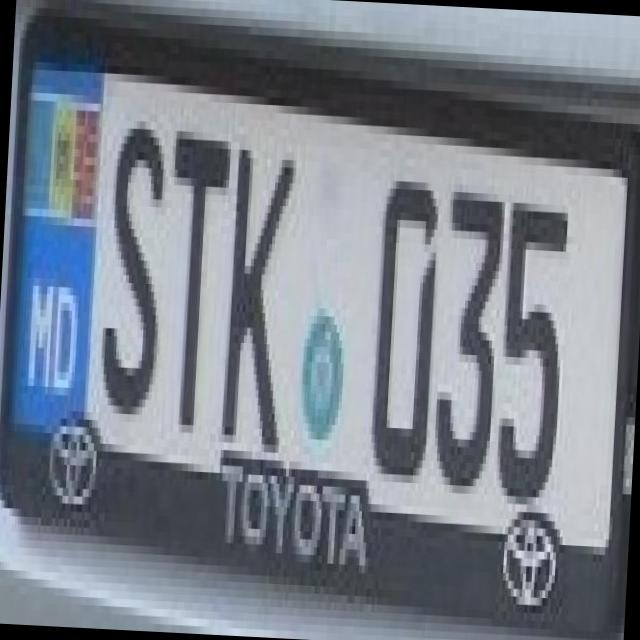0: (355, 149, 450, 477)
3: (428, 168, 507, 487)
5: (486, 186, 566, 498)
K: (210, 126, 304, 446)
S: (84, 97, 176, 416)
T: (156, 115, 232, 427)
